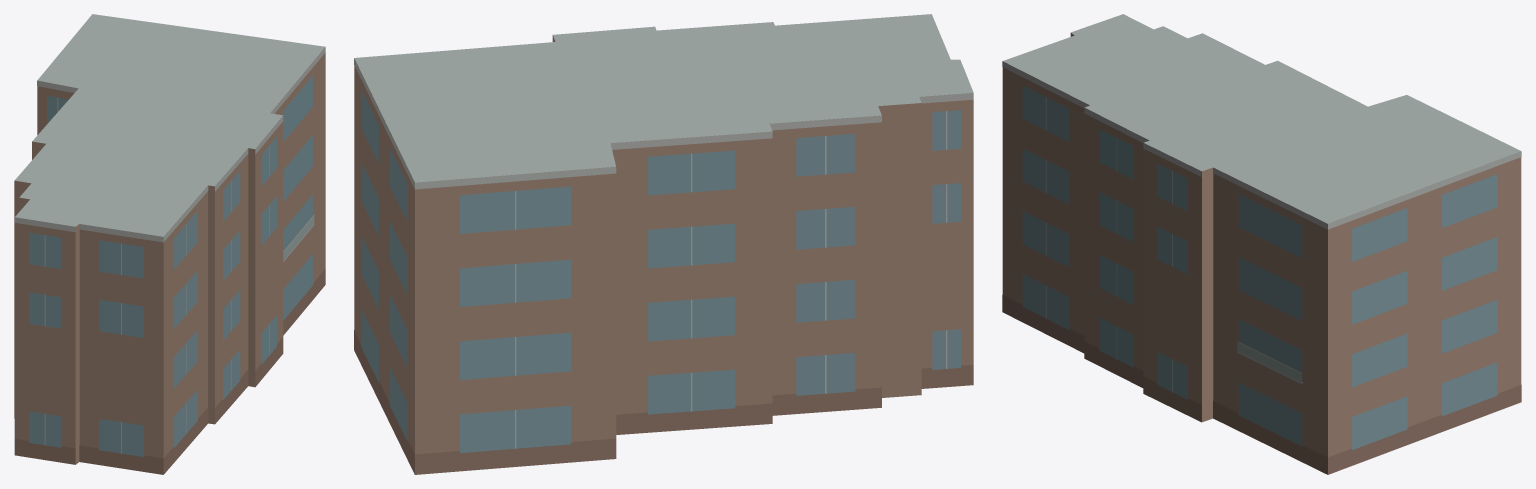
The model's file is survey-upis-32721859.glb.
3 renders of one model, left to right at view 1: azimuth 30°, elevation 25°; view 2: azimuth 150°, elevation 25°; view 3: azimuth 270°, elevation 25°, orthographic. The views are drawn at different scales.
Visible parts, largest first — view 1: survey-upis-32721859.tmp; view 2: survey-upis-32721859.tmp; view 3: survey-upis-32721859.tmp.
Part boxes in pixels (x1,y1,x2,y2): survey-upis-32721859.tmp: (14, 14, 325, 474); survey-upis-32721859.tmp: (354, 14, 973, 474); survey-upis-32721859.tmp: (1002, 14, 1521, 474).
Bounding box in the file's own units: 18.83 × 10.5 × 19.68.
